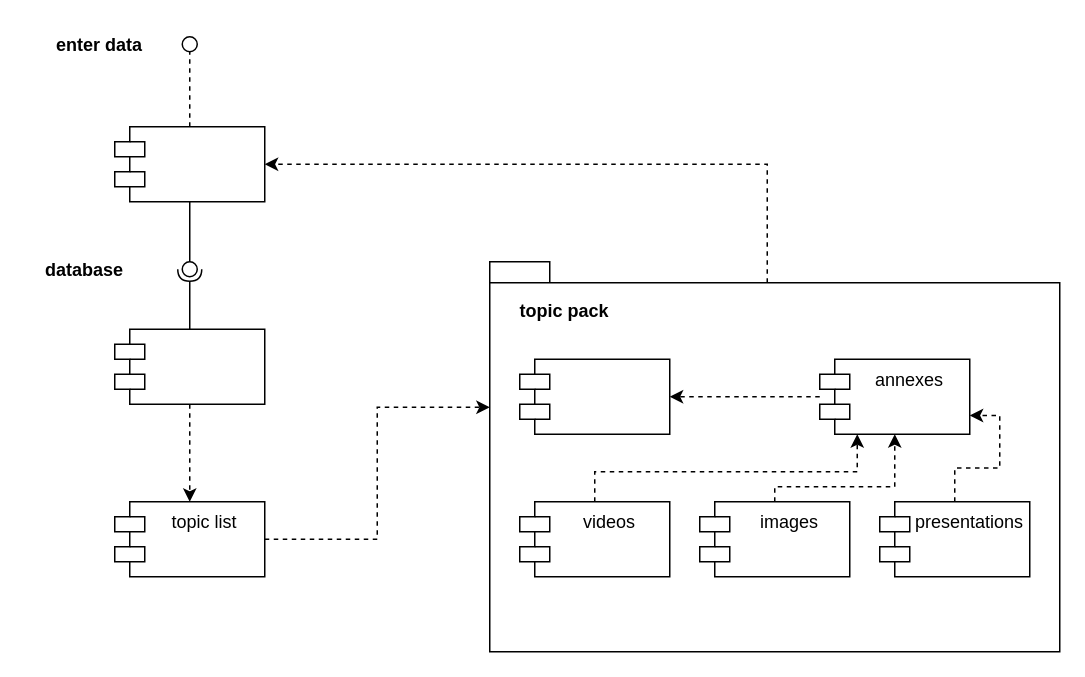
The diagram is 1085 pixels wide and 677 high, and some of its shapes have lost their labels. The box of each missing label's shape, as (x1, y1, x2, y2) in pixels:
App: (113, 125, 265, 202)
seeker: (113, 328, 265, 404)
topic: (518, 358, 670, 434)
